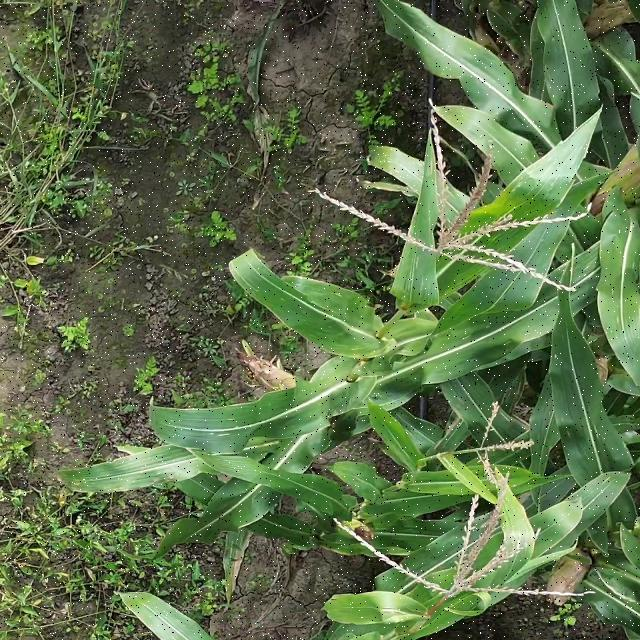gray-leaf-spot: (404, 239, 490, 315), (501, 140, 581, 211)
southern-leaf-blight: (269, 280, 366, 346), (178, 407, 257, 457), (608, 288, 640, 333)
